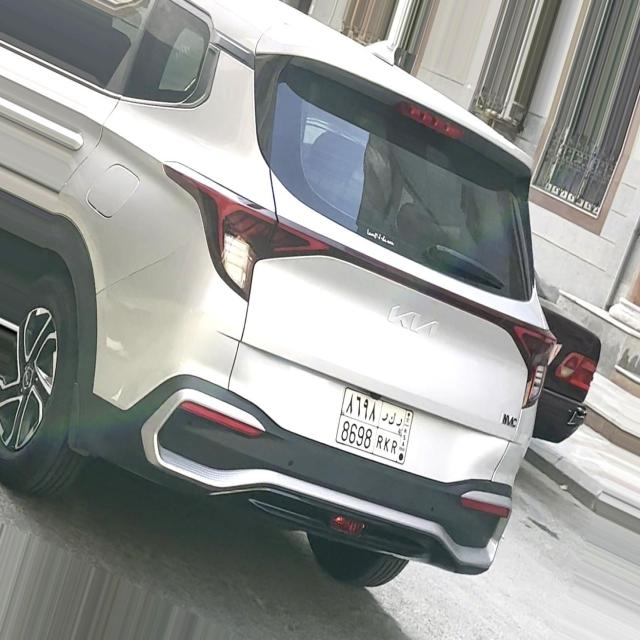Car-plate: (328, 378, 429, 474)
